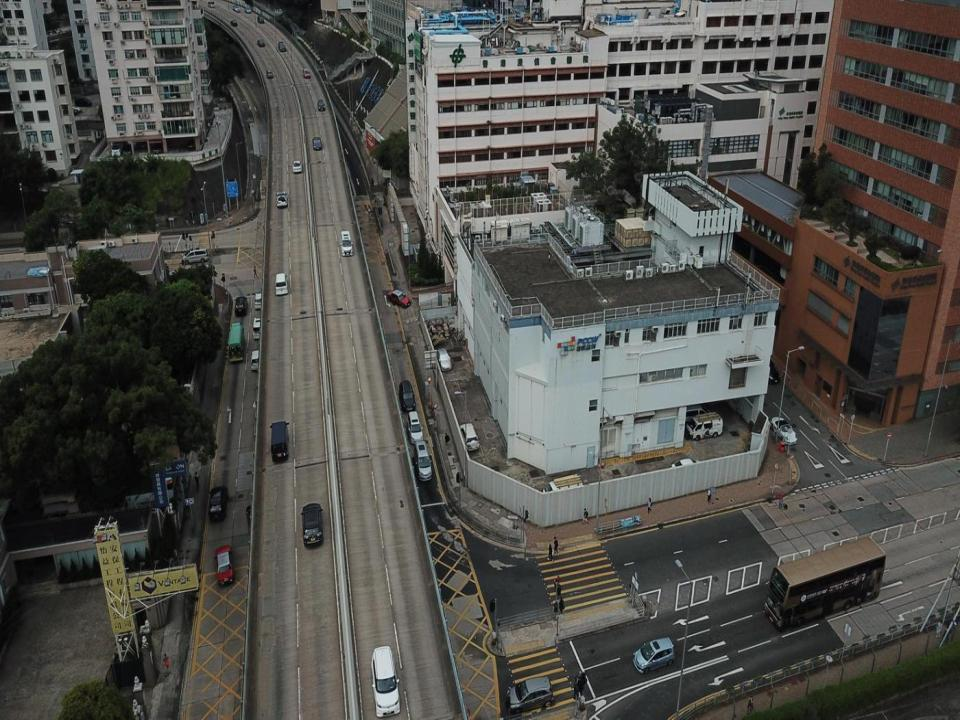bus: (764, 536, 886, 630), (228, 322, 244, 362)
car: (633, 637, 675, 672), (300, 502, 323, 546), (214, 544, 234, 586), (770, 417, 798, 444), (245, 503, 267, 537), (208, 485, 227, 520), (762, 358, 780, 384), (388, 289, 412, 308), (437, 349, 451, 372), (153, 135, 163, 154), (123, 142, 135, 156), (312, 137, 322, 151), (187, 137, 197, 150), (292, 160, 302, 173), (66, 104, 82, 112), (139, 135, 148, 149), (318, 99, 326, 110), (278, 41, 286, 51), (302, 68, 310, 78), (257, 14, 264, 24), (244, 6, 252, 14), (258, 39, 266, 47), (232, 4, 239, 12), (230, 19, 237, 27), (266, 70, 273, 78)
van: (371, 646, 400, 717), (506, 675, 554, 714), (542, 477, 584, 506), (685, 412, 722, 441), (270, 421, 290, 461), (680, 404, 711, 428), (414, 441, 432, 481), (458, 422, 479, 452), (407, 411, 423, 444), (399, 380, 416, 411), (182, 247, 208, 264), (340, 230, 353, 256), (274, 273, 288, 295), (110, 134, 123, 156), (252, 316, 264, 339), (234, 296, 247, 315), (250, 350, 262, 370), (276, 191, 287, 208), (253, 292, 264, 309), (75, 97, 92, 107), (207, 1, 215, 8)
